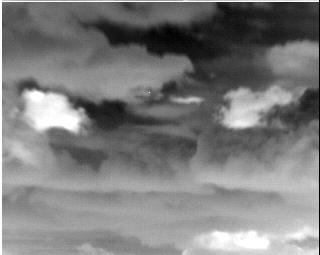Target: (149, 92, 151, 94)
